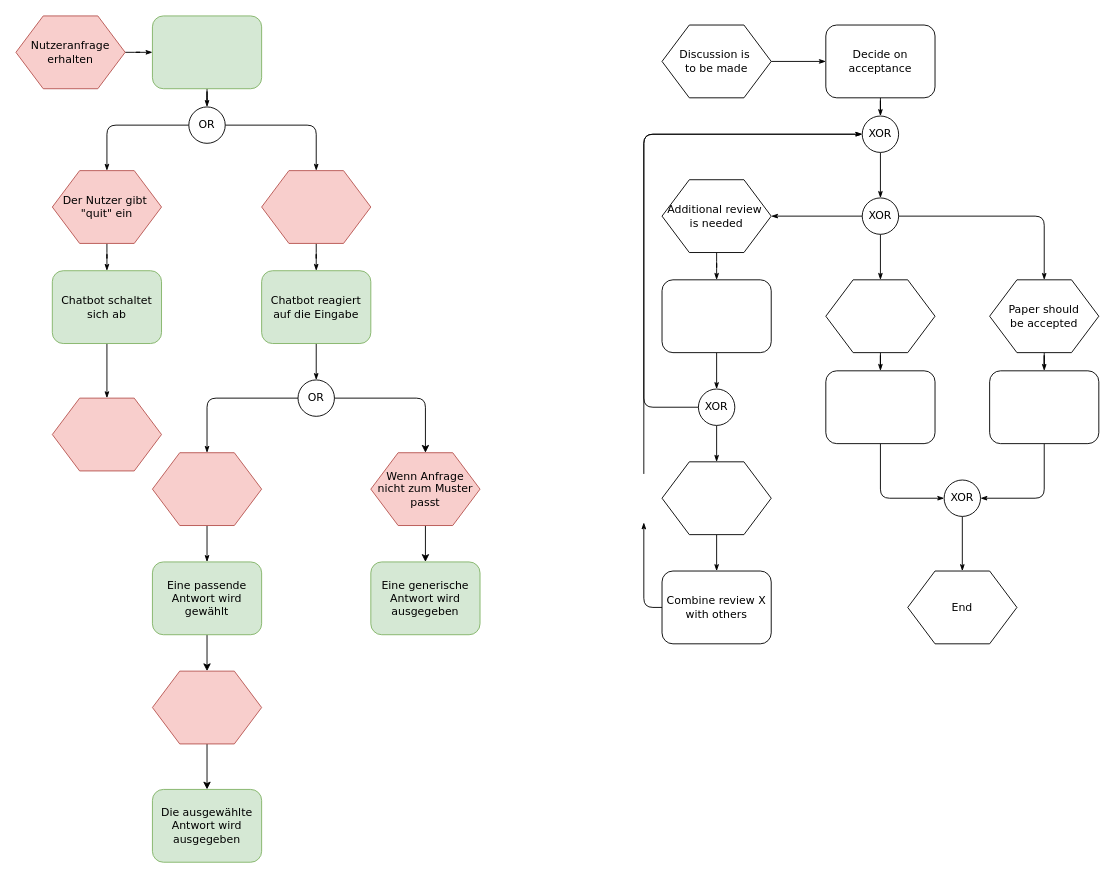
Some shapes in this 1115 by 878 pixel diagram are drawn without their labels. The box of each missing label's shape, as (x1, y1, x2, y2) in pixels:
Accept paper: (989, 370, 1099, 444)
Anfrage analysieren: (152, 15, 262, 89)
Ausgewählte Antwort wird erzeugt: (152, 670, 262, 744)
Ende: (51, 397, 162, 471)
Invite additional reviewer: (661, 279, 771, 353)
Nutzer stellt seine Frage: (261, 170, 371, 243)
Paper should be rejected: (825, 279, 935, 353)
Reject paper: (825, 370, 935, 444)
Review X was received: (661, 461, 771, 535)
Wenn Anfrage zum Muster passt: (152, 452, 262, 526)
